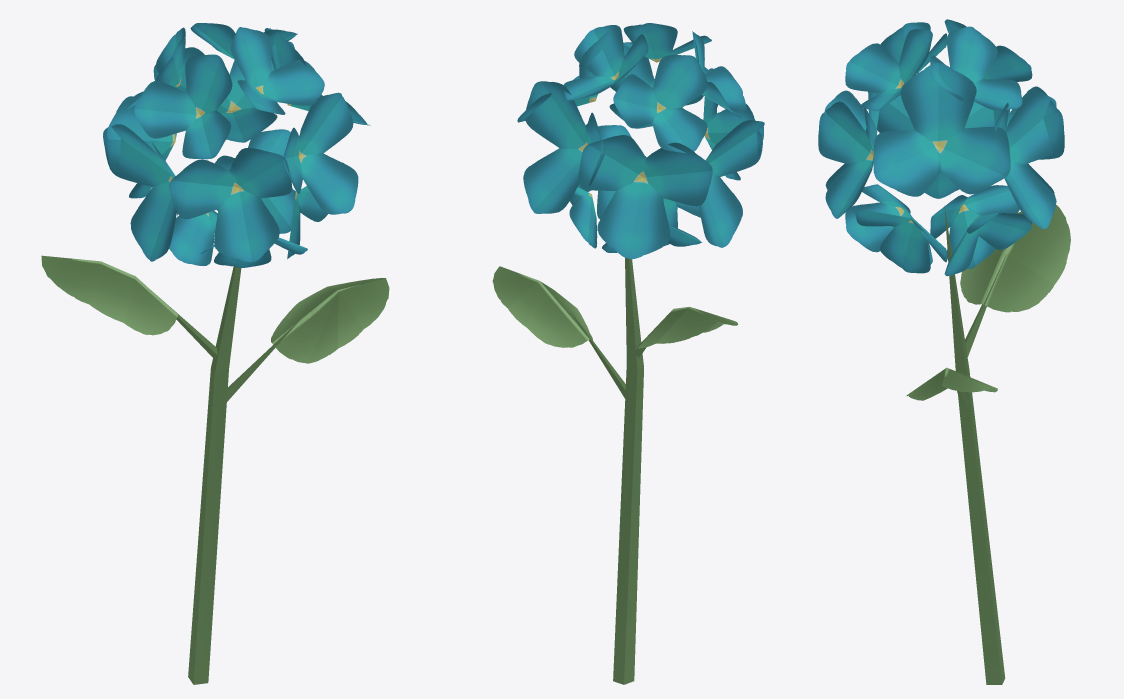
File: Flower_1.glb
3 renders of one model, left to right at view 1: azimuth 30°, elevation 25°; view 2: azimuth 150°, elevation 25°; view 3: azimuth 270°, elevation 25°, orthographic. The views are drawn at different scales.
Bounding box in the file's own units: 0.2678 × 0.4894 × 0.2044.
Materials: 1 (1 with a texture image).
